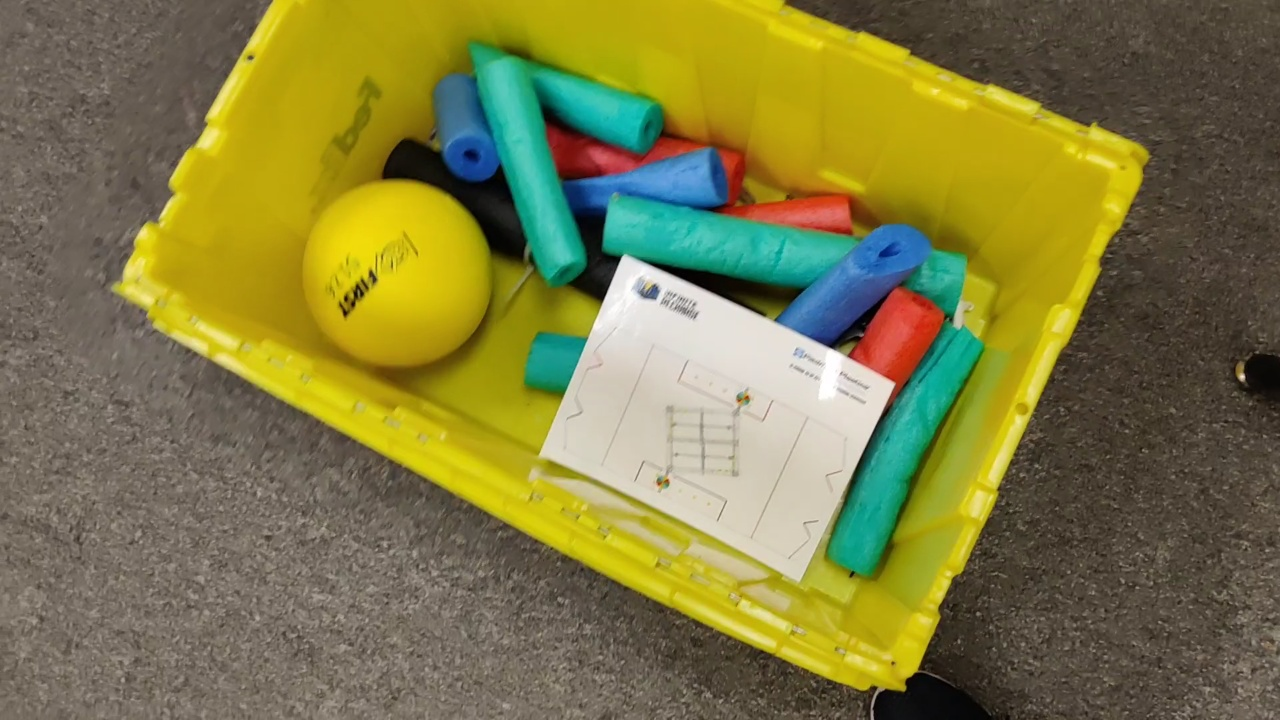Ball: (306, 183, 487, 369)
